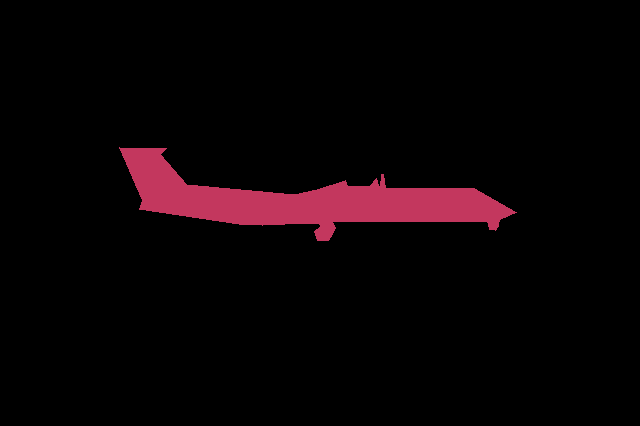Airplane: (119, 147, 517, 241)
